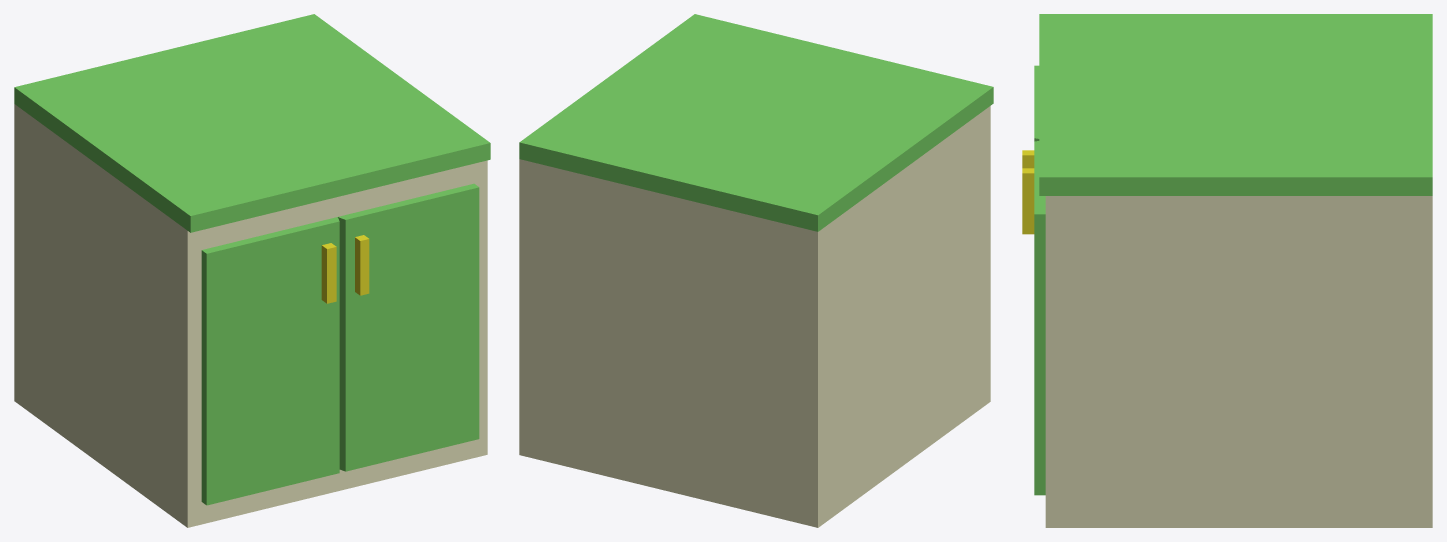
The model's file is CounterPiece.fbx.
3 renders of one model, left to right at view 1: azimuth 30°, elevation 25°; view 2: azimuth 150°, elevation 25°; view 3: azimuth 270°, elevation 25°, orthographic. The views are drawn at different scales.
Parts seen in each view (by area): view 1: pCube2; view 2: pCube2; view 3: pCube2.
Part boxes in pixels (bbox=[...]): pCube2: bbox=[14, 14, 490, 527]; pCube2: bbox=[519, 14, 993, 527]; pCube2: bbox=[1022, 14, 1432, 527].
Bounding box in the file's own units: 13.18 × 13.18 × 13.98.
